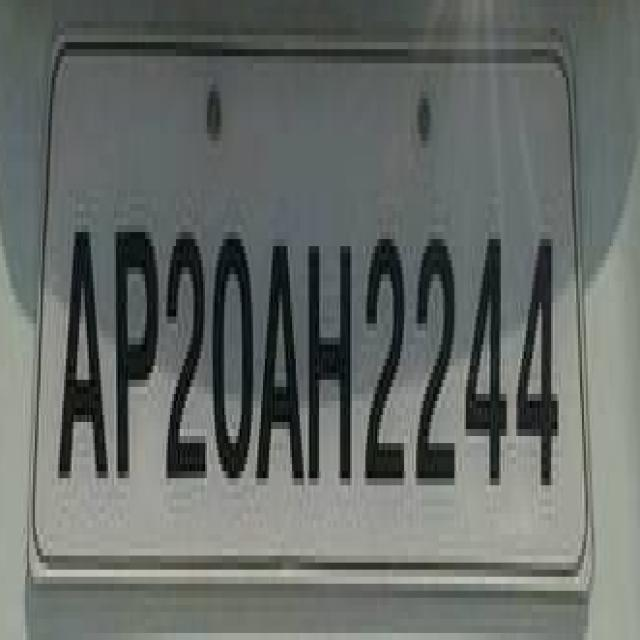license_plate: (35, 14, 580, 605)
